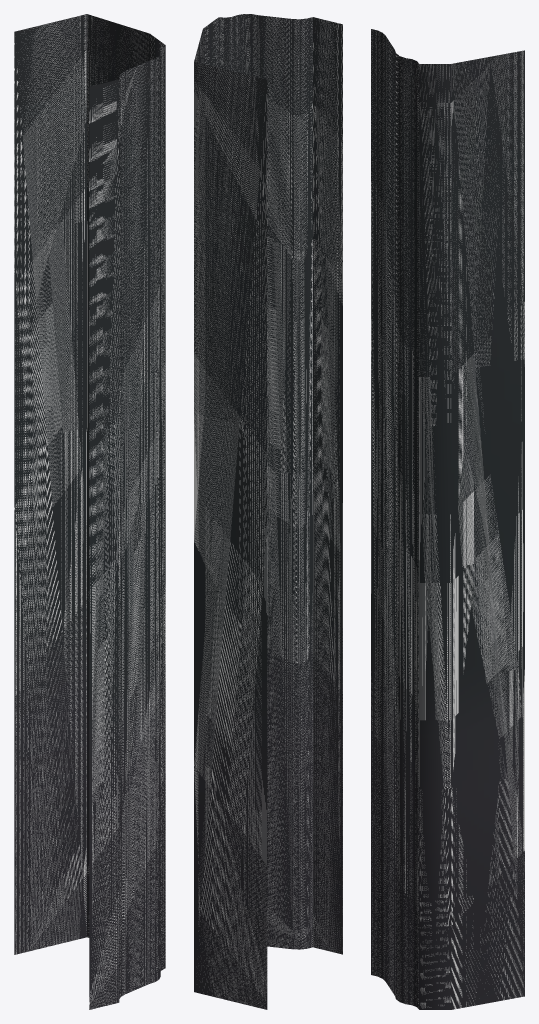
File: original-35.obj
3 renders of one model, left to right at view 1: azimuth 30°, elevation 25°; view 2: azimuth 150°, elevation 25°; view 3: azimuth 270°, elevation 25°, orthographic. The views are drawn at different scales.
Visible parts, largest first — view 1: DF_12_CR1/DF_12_CR/mesh27/mesh27-geometry#mesh27-geometry; view 2: DF_12_CR1/DF_12_CR/mesh27/mesh27-geometry#mesh27-geometry; view 3: DF_12_CR1/DF_12_CR/mesh27/mesh27-geometry#mesh27-geometry.
Boxes of the visible parts, x1,y1,x2,y2 form: DF_12_CR1/DF_12_CR/mesh27/mesh27-geometry#mesh27-geometry: (14,14,165,1009); DF_12_CR1/DF_12_CR/mesh27/mesh27-geometry#mesh27-geometry: (194,14,342,1009); DF_12_CR1/DF_12_CR/mesh27/mesh27-geometry#mesh27-geometry: (371,29,524,1009).
Size of the model in its own units: 0.0218 by 0.1925 by 0.0284.
